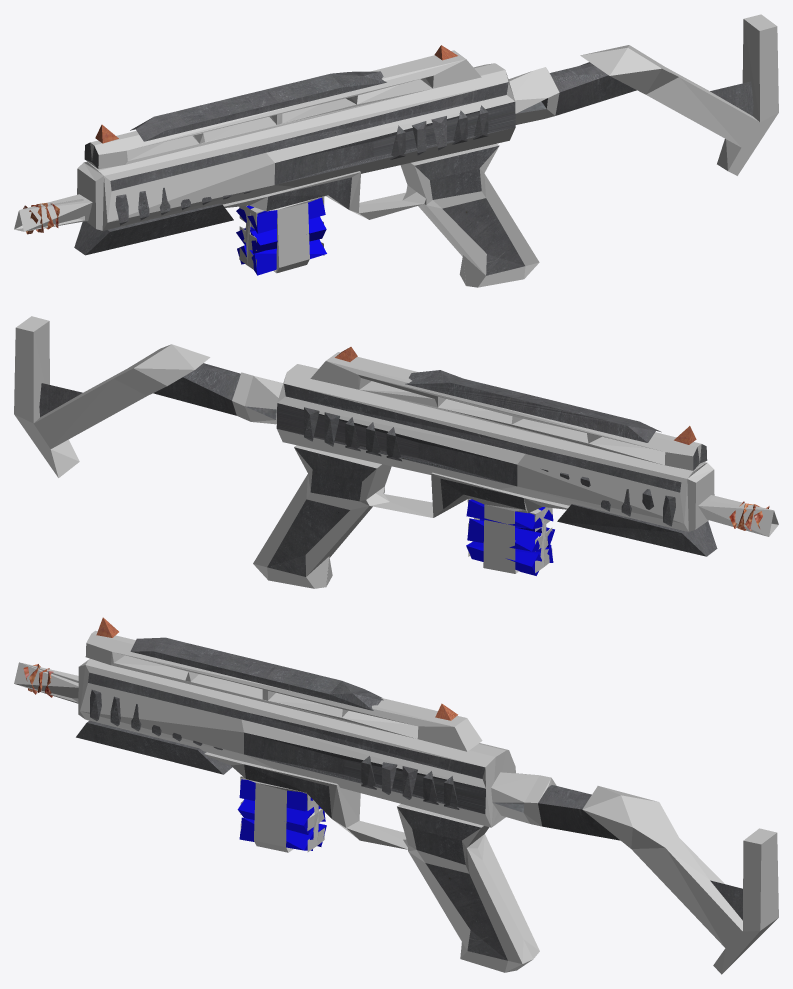
File: laser_rifle_low_poly.fbx
3 renders of one model, top to bottom at view 1: azimuth 30°, elevation 25°; view 2: azimuth 150°, elevation 25°; view 3: azimuth 330°, elevation 25°, orthographic.
Parts seen in each view (by area): view 1: Cube.001; view 2: Cube.001; view 3: Cube.001.
Boxes of the visible parts, x1,y1,x2,y2 form: Cube.001: (14, 14, 778, 287); Cube.001: (14, 316, 778, 588); Cube.001: (14, 617, 778, 974).
Bounding box in the file's own units: 817 × 263 × 68.11.
